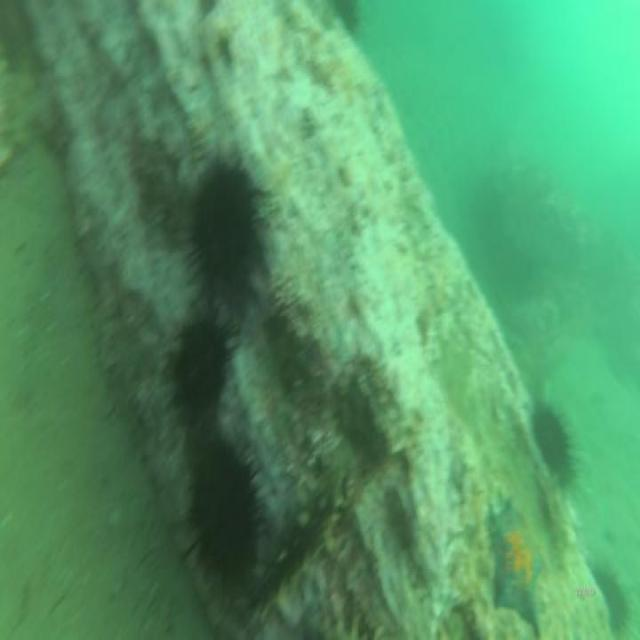echinus: (179, 147, 279, 324), (172, 422, 263, 593), (156, 300, 247, 432), (527, 384, 584, 496)
starfish: (482, 496, 551, 638)
